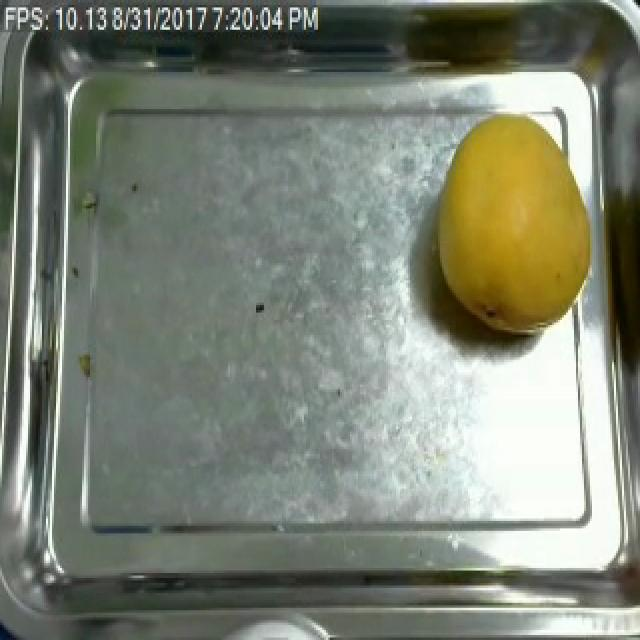fruit: (422, 106, 602, 350)
